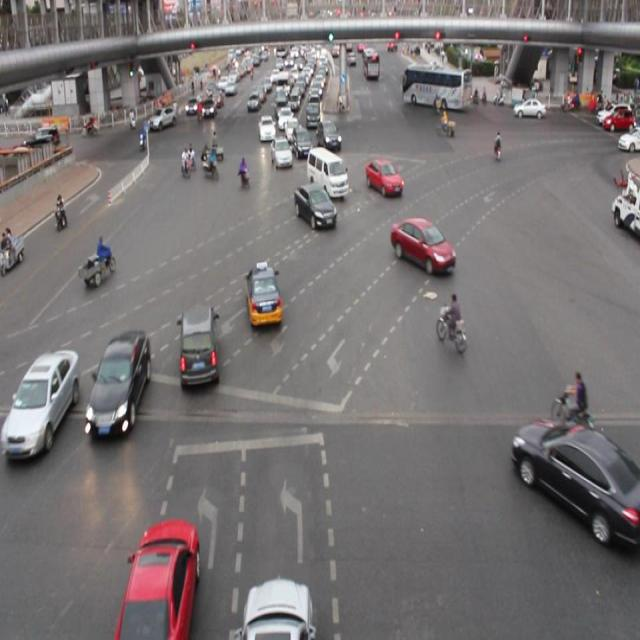car: (510, 420, 640, 539), (119, 519, 198, 640), (1, 350, 75, 456), (85, 328, 151, 440), (242, 577, 311, 640), (390, 213, 455, 278), (176, 304, 220, 391), (244, 258, 283, 330), (293, 182, 338, 232), (362, 156, 404, 197), (268, 134, 292, 169)
truck: (306, 145, 348, 199)
